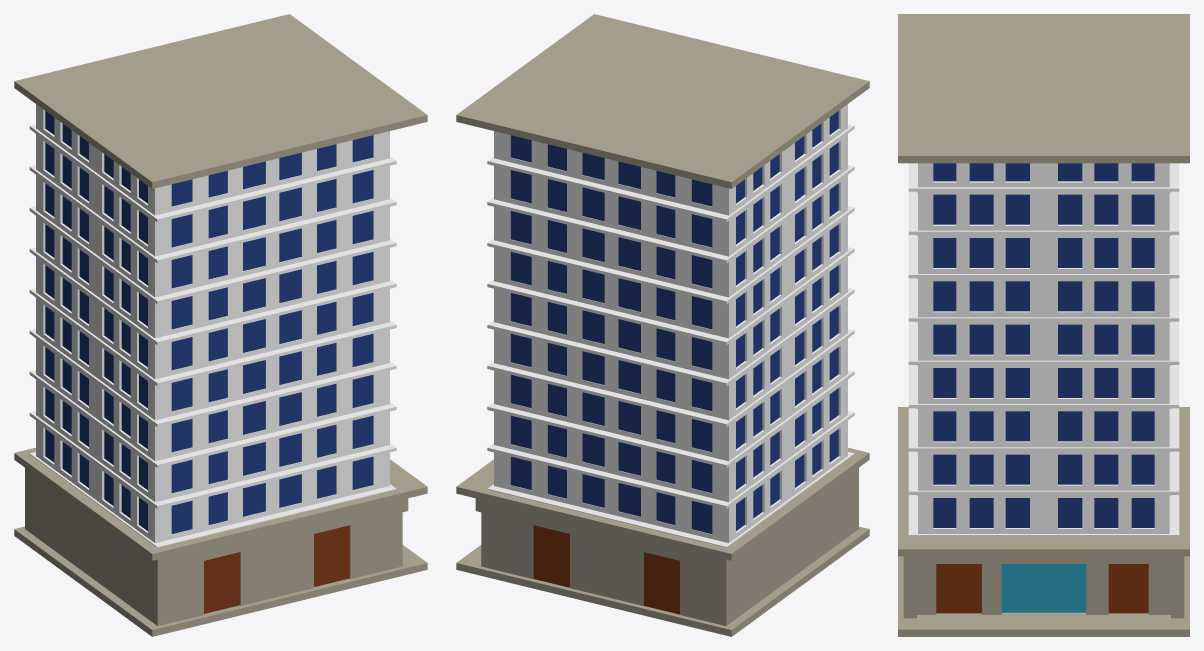
File: Edificio7.obj
3 renders of one model, left to right at view 1: azimuth 30°, elevation 25°; view 2: azimuth 150°, elevation 25°; view 3: azimuth 270°, elevation 25°, orthographic. The views are drawn at different scales.
Parts seen in each view (by area): view 1: Cube_Cube_001, Cube_001_Cube_010, Cube_003_Cube_012, Cube_002_Cube_011, Cube_009_Cube_018, Cube_010_Cube_019; view 2: Cube_Cube_001, Cube_001_Cube_010, Cube_003_Cube_012, Cube_002_Cube_011, Cube_008_Cube_017, Cube_007_Cube_016; view 3: Cube_Cube_001, Cube_001_Cube_010, Cube_003_Cube_012, Cube_002_Cube_011, Cube_004_Cube_013, Cube_005_Cube_014, Cube_006_Cube_015.
Part boxes in pixels (<box>): Cube_Cube_001: <box>29,104,396,547</box>; Cube_001_Cube_010: <box>14,14,427,188</box>; Cube_003_Cube_012: <box>14,468,427,636</box>; Cube_002_Cube_011: <box>14,447,427,560</box>; Cube_009_Cube_018: <box>204,552,239,613</box>; Cube_010_Cube_019: <box>314,525,349,586</box>; Cube_Cube_001: <box>487,104,854,547</box>; Cube_001_Cube_010: <box>456,14,869,188</box>; Cube_003_Cube_012: <box>456,468,869,636</box>; Cube_002_Cube_011: <box>456,447,869,560</box>; Cube_008_Cube_017: <box>643,552,679,614</box>; Cube_007_Cube_016: <box>533,525,569,587</box>; Cube_Cube_001: <box>908,163,1179,535</box>; Cube_001_Cube_010: <box>898,14,1189,163</box>; Cube_003_Cube_012: <box>898,556,1189,636</box>; Cube_002_Cube_011: <box>898,407,1189,556</box>; Cube_004_Cube_013: <box>1001,564,1086,612</box>; Cube_005_Cube_014: <box>936,564,981,613</box>; Cube_006_Cube_015: <box>1108,564,1148,613</box>.
Bounding box in the file's own units: 2.3 × 3.63 × 2.
Materials: 9 (9 with a texture image).
